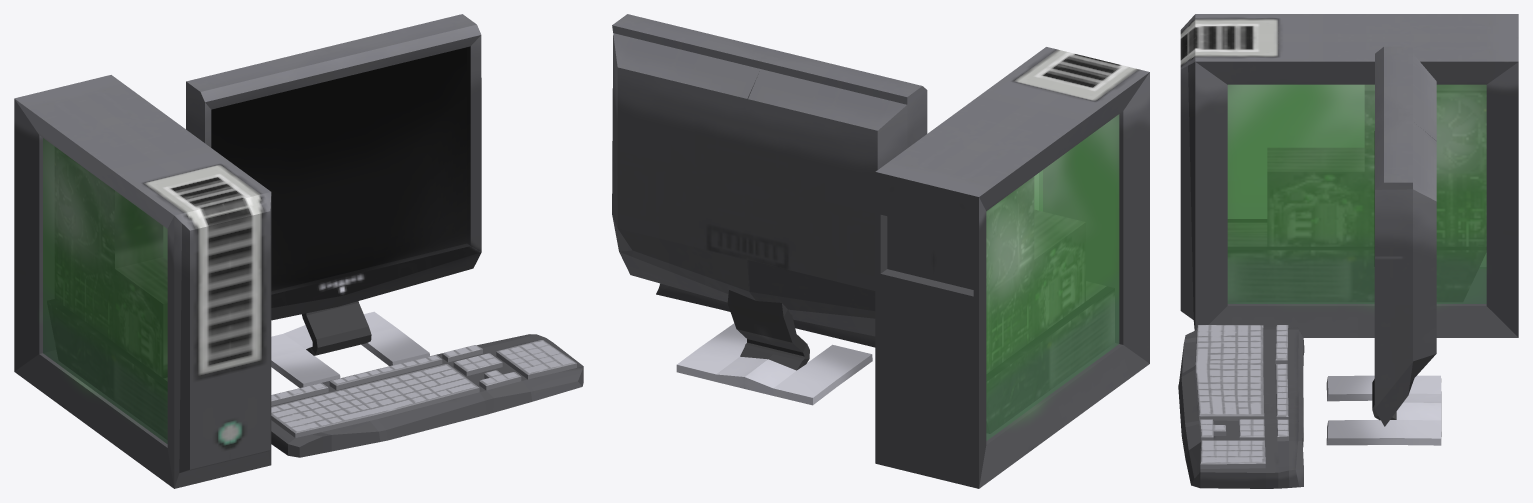
The model's file is wire nova 2 try2.glb.
3 renders of one model, left to right at view 1: azimuth 30°, elevation 25°; view 2: azimuth 150°, elevation 25°; view 3: azimuth 270°, elevation 25°, orthographic. The views are drawn at different scales.
Visible parts, largest first — view 1: pc, pantalla, cristal verde; view 2: pc, cristal verde; view 3: pc, cristal verde.
Part boxes in pixels (x1,y1,x2,y2): pc: (14, 14, 583, 488); pantalla: (211, 46, 470, 294); cristal verde: (43, 138, 167, 443); pc: (612, 14, 1149, 488); cristal verde: (986, 114, 1119, 440); pc: (1178, 14, 1518, 488); cristal verde: (1227, 84, 1486, 303).
Size of the model in its own units: 9.77 by 6.77 by 6.9.
Materials: 2 (2 with a texture image).
